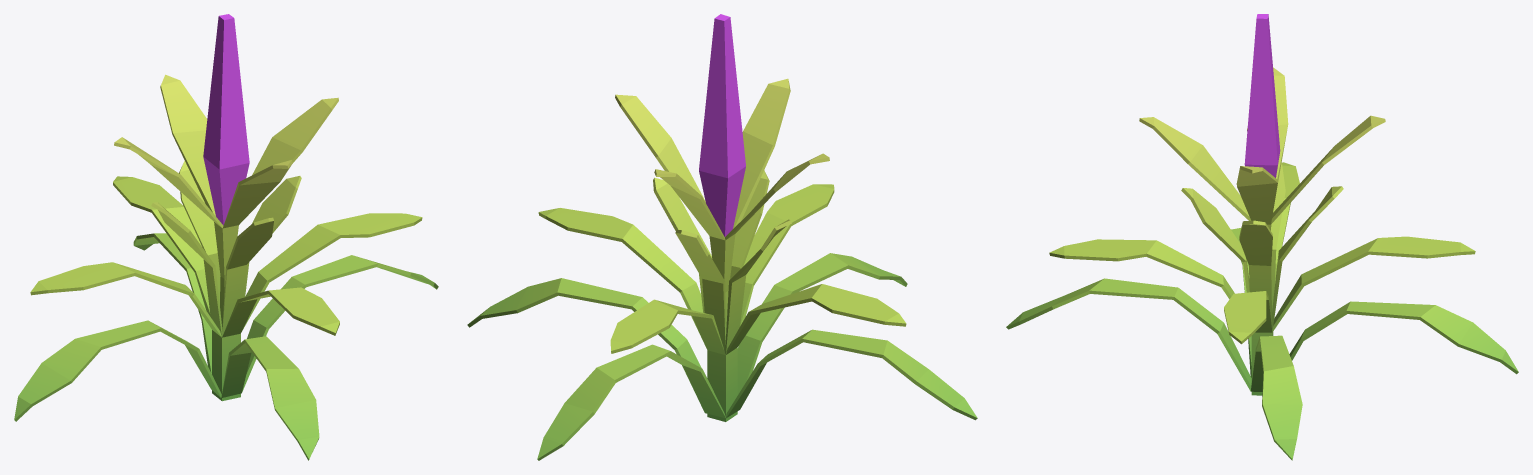
Rendered from Plant_5.fbx.
3 renders of one model, left to right at view 1: azimuth 30°, elevation 25°; view 2: azimuth 150°, elevation 25°; view 3: azimuth 270°, elevation 25°, orthographic. The views are drawn at different scales.
Visible parts, largest first — view 1: Plant_5; view 2: Plant_5; view 3: Plant_5.
Boxes of the visible parts, x1,y1,x2,y2 form: Plant_5: (14,14,438,460); Plant_5: (467,14,977,460); Plant_5: (1006,14,1518,460).
Bounding box in the file's own units: 1.74 × 1.39 × 1.72.
